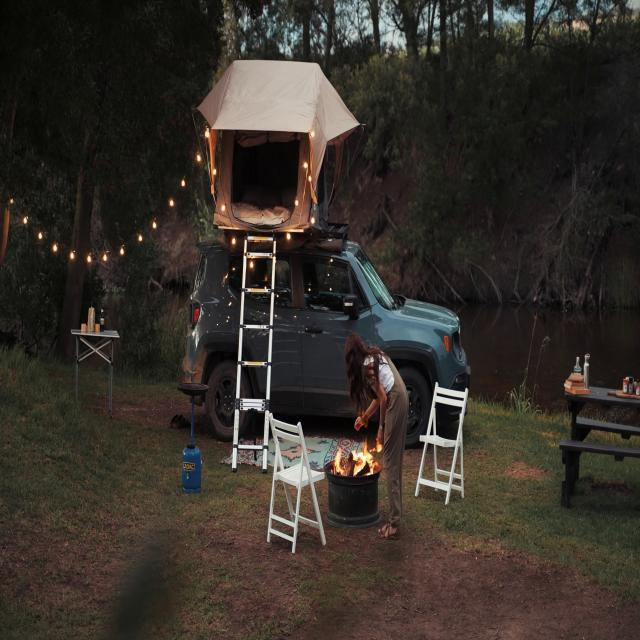Fire: (332, 434, 378, 480), (344, 436, 380, 478)
